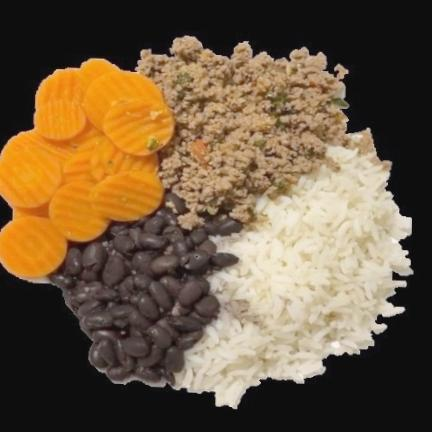beans: (45, 194, 244, 379)
carrot: (0, 57, 176, 277)
meat: (139, 38, 349, 222)
rice: (178, 136, 414, 407)
